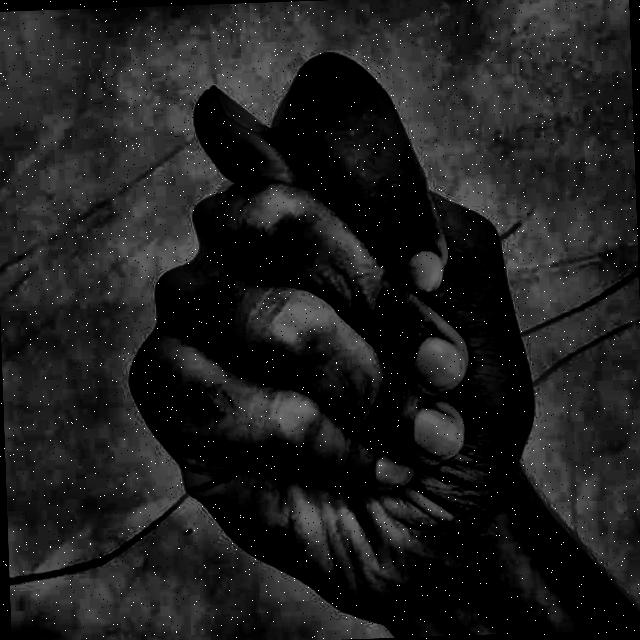Ta: (97, 19, 590, 640)
